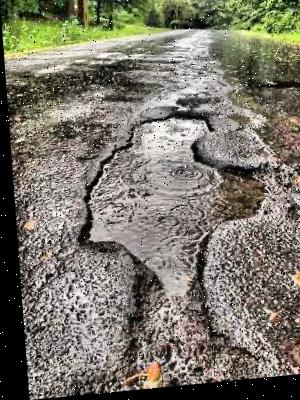pothole: (63, 106, 271, 304)
